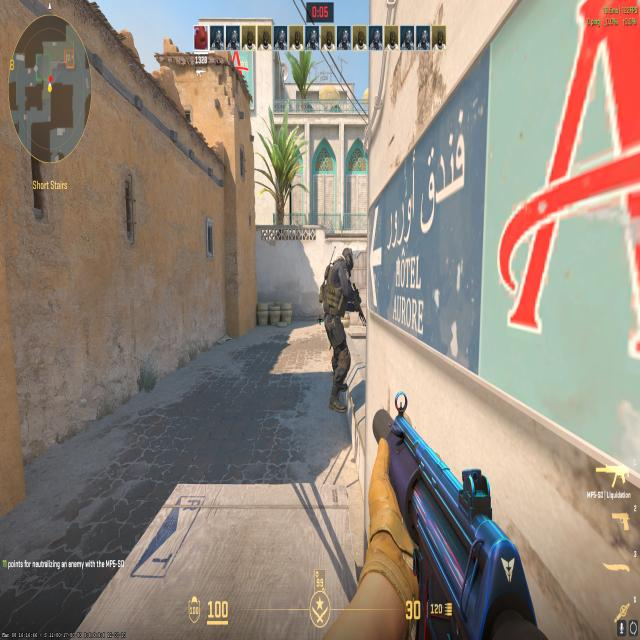ct: (303, 224, 365, 425)
